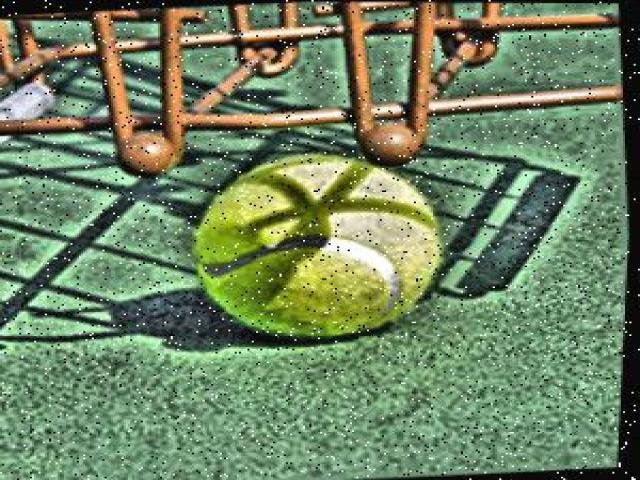tennis-ball: (192, 153, 444, 340)
